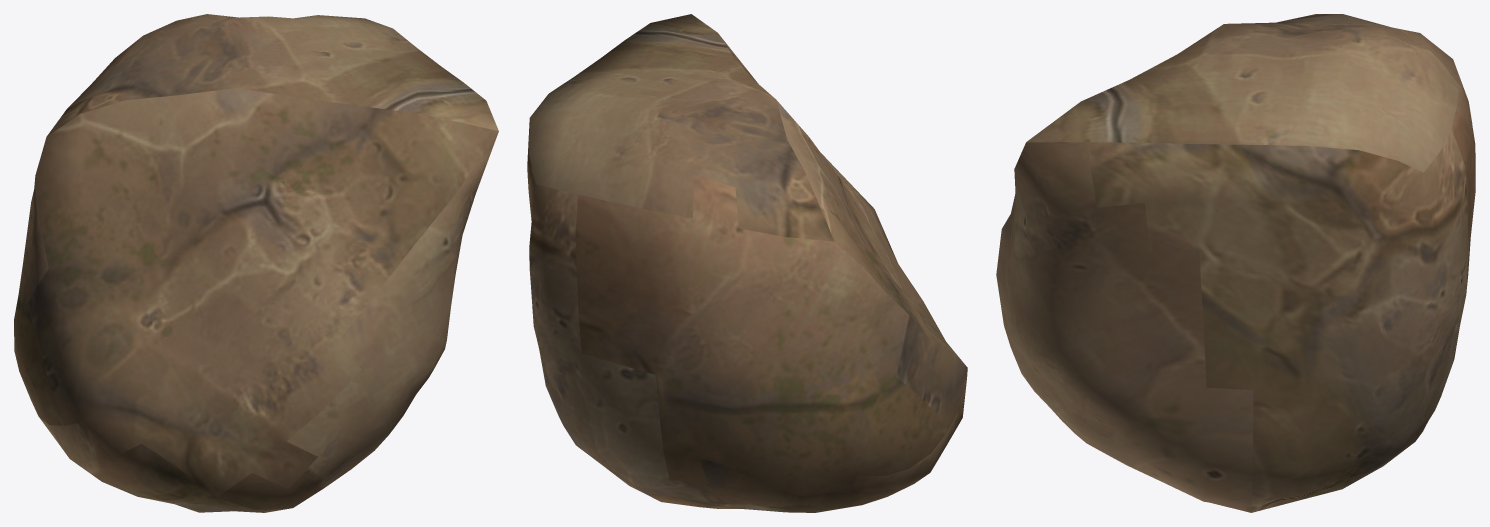
Rendered from Rock-1-tex.fbx.
3 renders of one model, left to right at view 1: azimuth 30°, elevation 25°; view 2: azimuth 150°, elevation 25°; view 3: azimuth 270°, elevation 25°, orthographic. The views are drawn at different scales.
Visible parts, largest first — view 1: rock; view 2: rock; view 3: rock.
Boxes of the visible parts, x1,y1,x2,y2 form: rock: (14,14,498,512); rock: (527,14,967,512); rock: (996,14,1475,512).
Size of the model in its own units: 101 by 110 by 102.
